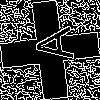A: (25, 25, 74, 64)
